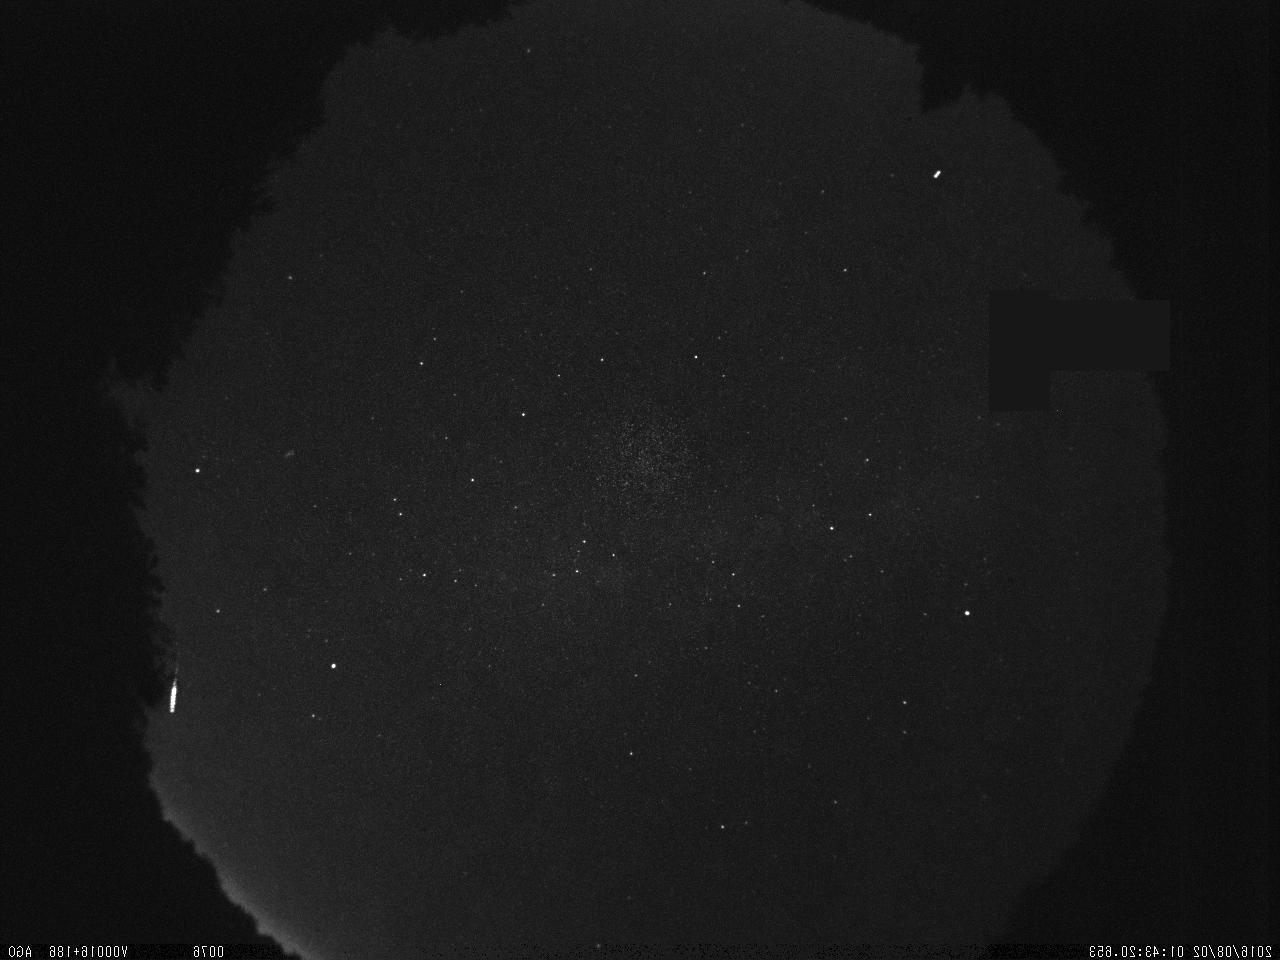meteor: (157, 646, 188, 725)
